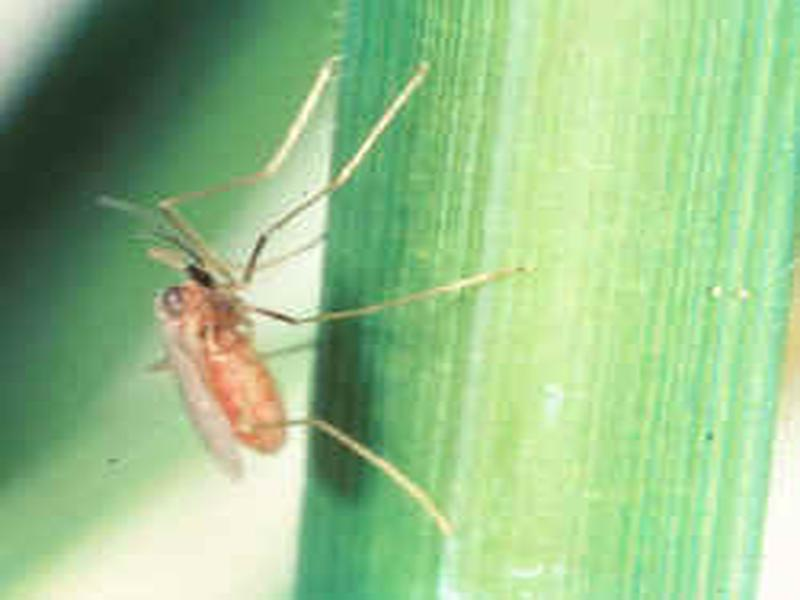Gall_midge: (117, 184, 431, 518)
